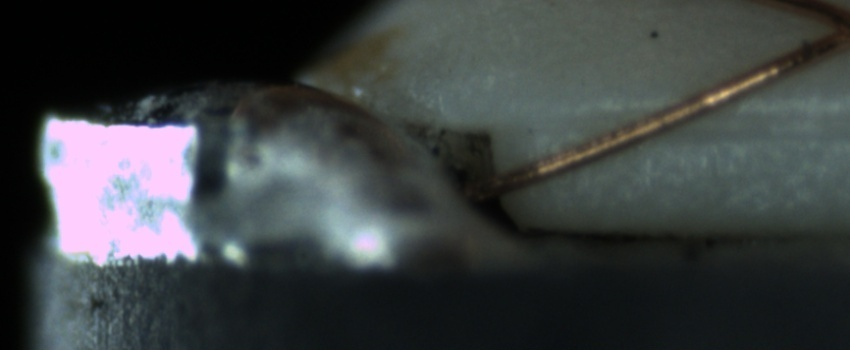CL: (799, 3, 850, 60)
DL: (540, 84, 846, 154)
